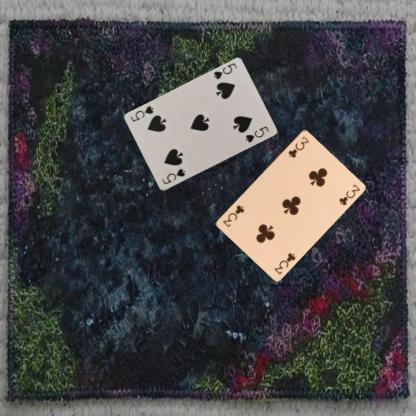3c: (286, 133, 310, 159), (272, 250, 296, 276)
5s: (211, 60, 238, 81), (159, 166, 186, 186)
